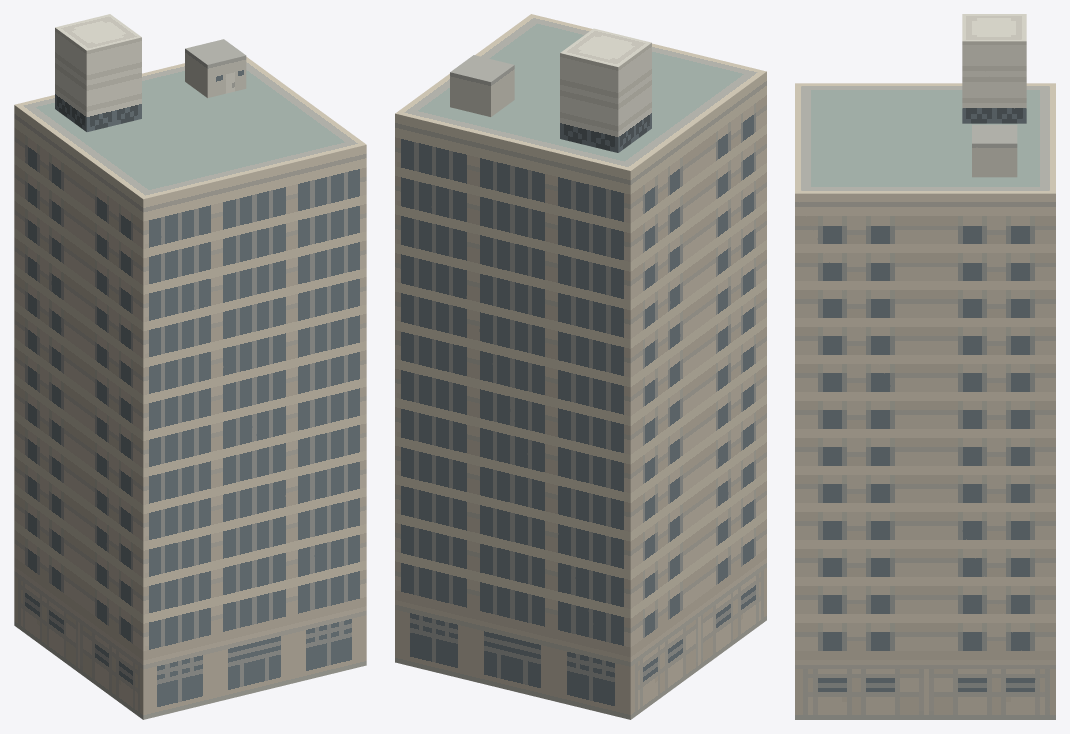
The model's file is 05ab_Sea_Bass_Building.glb.
The picture shows the model from 3 angles, left to right: view 1: azimuth 30°, elevation 25°; view 2: azimuth 150°, elevation 25°; view 3: azimuth 270°, elevation 25°; orthographic projection. The views are drawn at different scales.
Visible parts, largest first — view 1: part_0; view 2: part_0; view 3: part_0.
Boxes of the visible parts, x1=… form: part_0: x1=14, y1=14, x2=366, y2=719; part_0: x1=395, y1=14, x2=766, y2=719; part_0: x1=795, y1=14, x2=1055, y2=719.
Bounding box in the file's own units: 19.22 × 49.49 × 19.23.
1 material, 1 textured.
